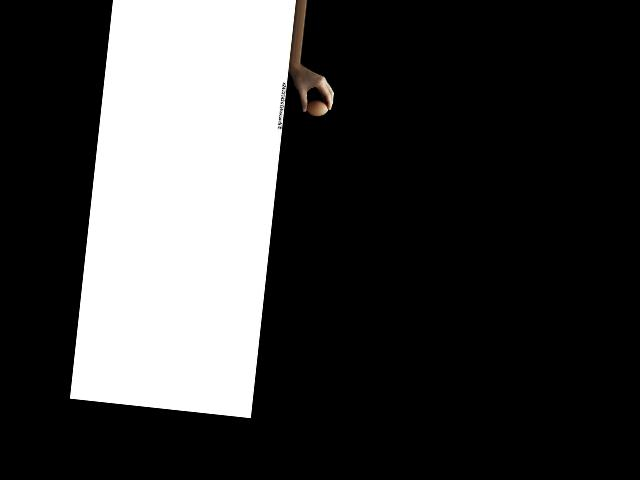egg: (306, 99, 329, 117)
